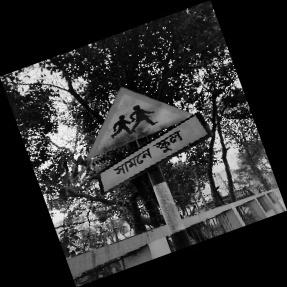School-in-front: (85, 86, 210, 198)
